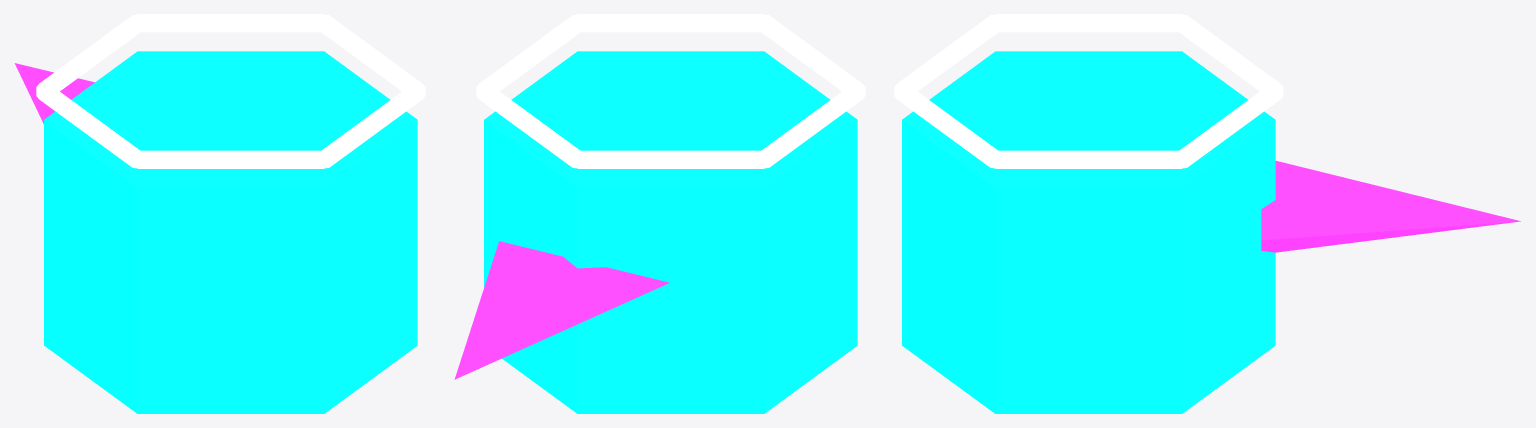
Rendered from hex_shatter.glb.
3 renders of one model, left to right at view 1: azimuth 30°, elevation 25°; view 2: azimuth 150°, elevation 25°; view 3: azimuth 270°, elevation 25°, orthographic.
Parts seen in each view (by area): view 1: HexShatterShellBody, HexShatterShellEdge3, HexShatterShellEdge0, HexShatterShellEdge2, HexShatterShellEdge4, HexShatterShellEdge1, HexShatterShellEdge5, HexShatterForwardShard; view 2: HexShatterShellBody, HexShatterForwardShard, HexShatterShellEdge1, HexShatterShellEdge4, HexShatterShellEdge0, HexShatterShellEdge2, HexShatterShellEdge5, HexShatterShellEdge3; view 3: HexShatterShellBody, HexShatterForwardShard, HexShatterShellEdge5, HexShatterShellEdge2, HexShatterShellEdge4, HexShatterShellEdge0, HexShatterShellEdge1, HexShatterShellEdge3.
Part boxes in pixels (x1,y1,x2,y2): HexShatterShellBody: [44, 51, 417, 413]; HexShatterShellEdge3: [137, 150, 324, 168]; HexShatterShellEdge0: [137, 14, 324, 32]; HexShatterShellEdge2: [36, 83, 140, 168]; HexShatterShellEdge4: [321, 83, 425, 168]; HexShatterShellEdge1: [36, 14, 142, 91]; HexShatterShellEdge5: [319, 14, 425, 91]; HexShatterForwardShard: [14, 63, 94, 123]; HexShatterShellBody: [484, 51, 857, 413]; HexShatterForwardShard: [454, 241, 669, 379]; HexShatterShellEdge1: [577, 150, 764, 168]; HexShatterShellEdge4: [577, 14, 764, 32]; HexShatterShellEdge0: [476, 83, 580, 168]; HexShatterShellEdge2: [761, 83, 865, 168]; HexShatterShellEdge5: [476, 14, 582, 91]; HexShatterShellEdge3: [759, 14, 865, 91]; HexShatterShellBody: [902, 51, 1275, 413]; HexShatterForwardShard: [1261, 161, 1520, 252]; HexShatterShellEdge5: [995, 150, 1182, 168]; HexShatterShellEdge2: [995, 14, 1182, 32]; HexShatterShellEdge4: [894, 83, 998, 168]; HexShatterShellEdge0: [1179, 83, 1283, 168]; HexShatterShellEdge1: [1177, 14, 1283, 91]; HexShatterShellEdge3: [894, 14, 1000, 91].
Bounding box in the file's own units: 0.581 × 0.4929 × 1.07.
